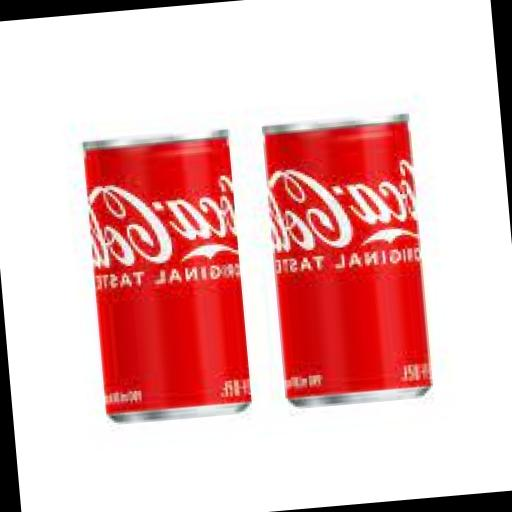Coca: (254, 104, 444, 420), (74, 116, 260, 438)
